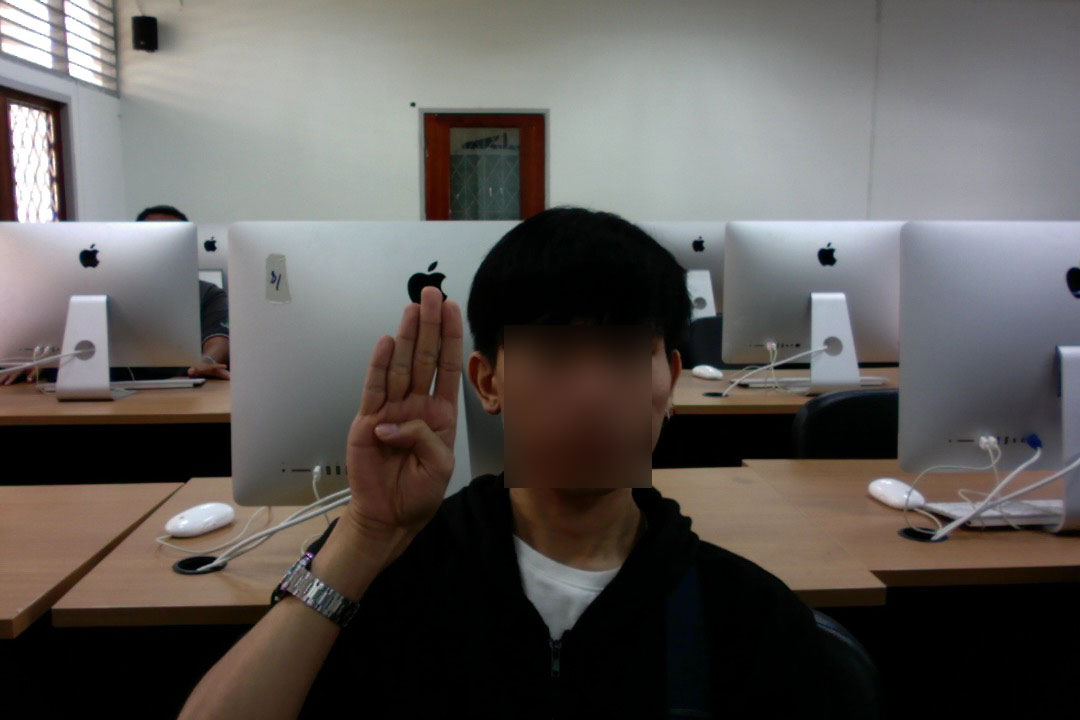bor: (341, 281, 470, 573)
